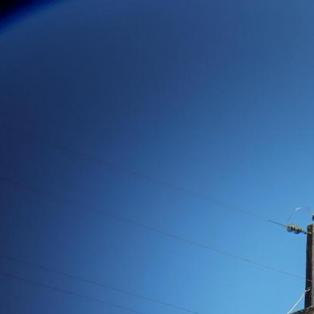Poste: (296, 222, 314, 314)
